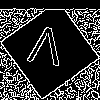V: (25, 25, 65, 76)
